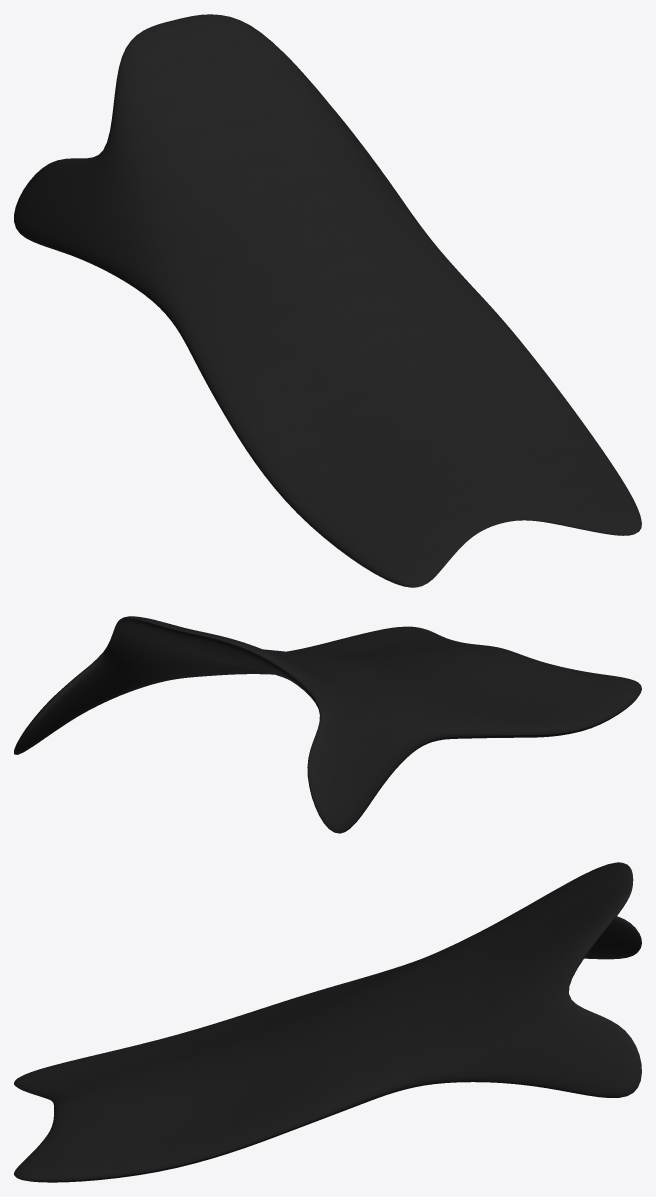
The picture shows the model from 3 angles, top to bottom: view 1: azimuth 30°, elevation 25°; view 2: azimuth 150°, elevation 25°; view 3: azimuth 270°, elevation 25°; orthographic projection. The views are drawn at different scales.
Visible parts, largest first — view 1: Cube.008; view 2: Cube.008; view 3: Cube.008.
Boxes of the visible parts, box(x1,y1,x2,y2) form: Cube.008: box(14, 14, 641, 587); Cube.008: box(14, 616, 641, 833); Cube.008: box(14, 862, 641, 1182).
Bounding box in the file's own units: 0.0711 × 0.0594 × 0.1346.
1 material, 1 textured.
